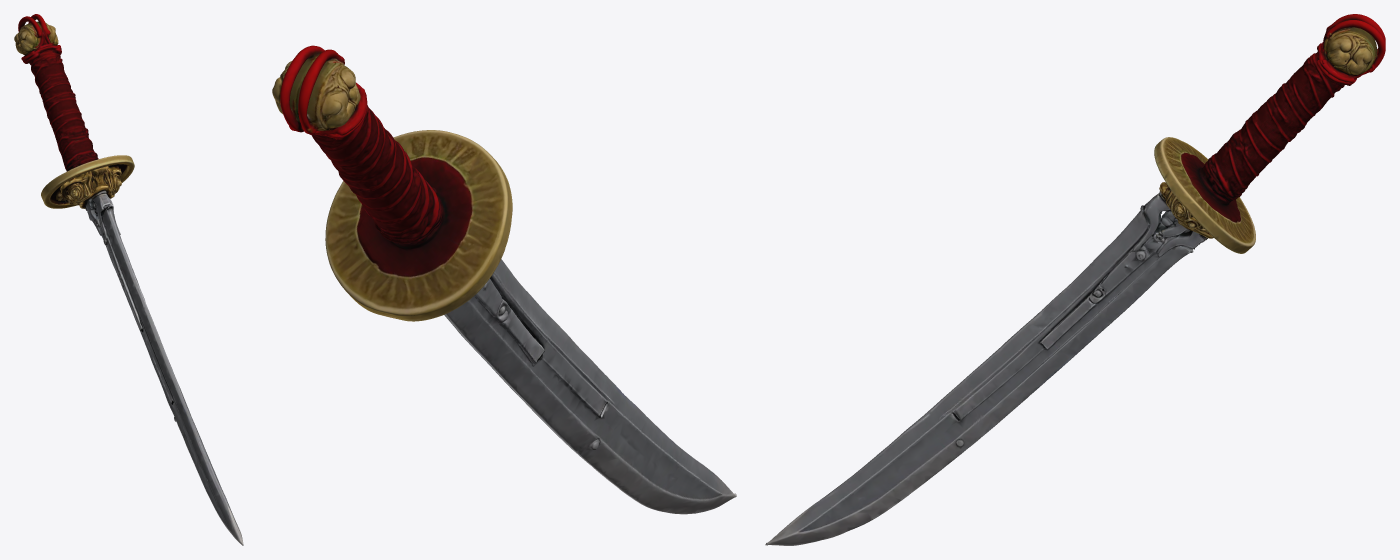
Rendered from w-saber.glb.
The picture shows the model from 3 angles, left to right: view 1: azimuth 30°, elevation 25°; view 2: azimuth 150°, elevation 25°; view 3: azimuth 270°, elevation 25°; orthographic projection. The views are drawn at different scales.
Parts seen in each view (by area): view 1: tripo_node_29c5b1b3-0e76-4611-8433-bbeede5c09a3; view 2: tripo_node_29c5b1b3-0e76-4611-8433-bbeede5c09a3; view 3: tripo_node_29c5b1b3-0e76-4611-8433-bbeede5c09a3.
Part boxes in pixels (x1=…): tripo_node_29c5b1b3-0e76-4611-8433-bbeede5c09a3: x1=14, y1=14, x2=243, y2=545; tripo_node_29c5b1b3-0e76-4611-8433-bbeede5c09a3: x1=272, y1=45, x2=736, y2=514; tripo_node_29c5b1b3-0e76-4611-8433-bbeede5c09a3: x1=765, y1=14, x2=1385, y2=545.
Bounding box in the file's own units: 0.2152 × 0.9215 × 0.9797.
Materials: 1 (1 with a texture image).
